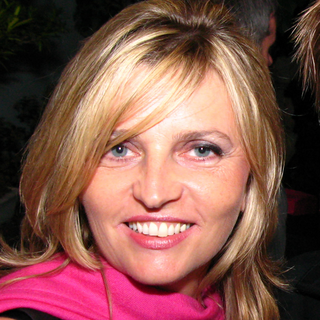eye: (100, 138, 144, 164), (179, 139, 226, 163)
